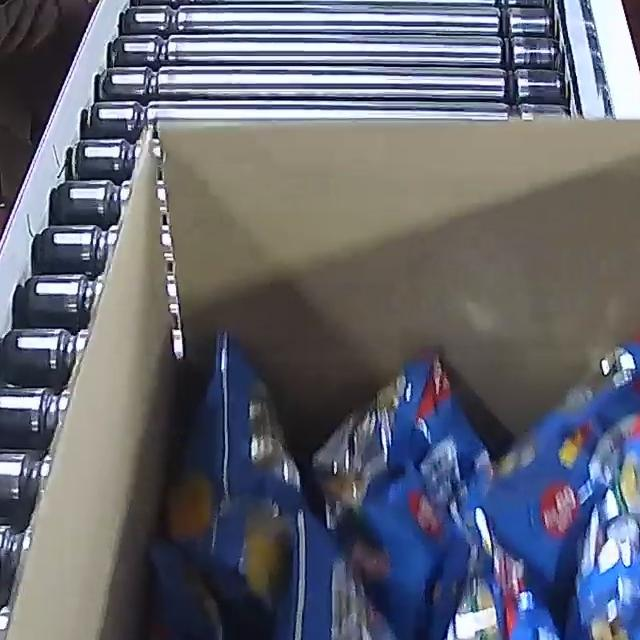paprika: (86, 314, 640, 640)
